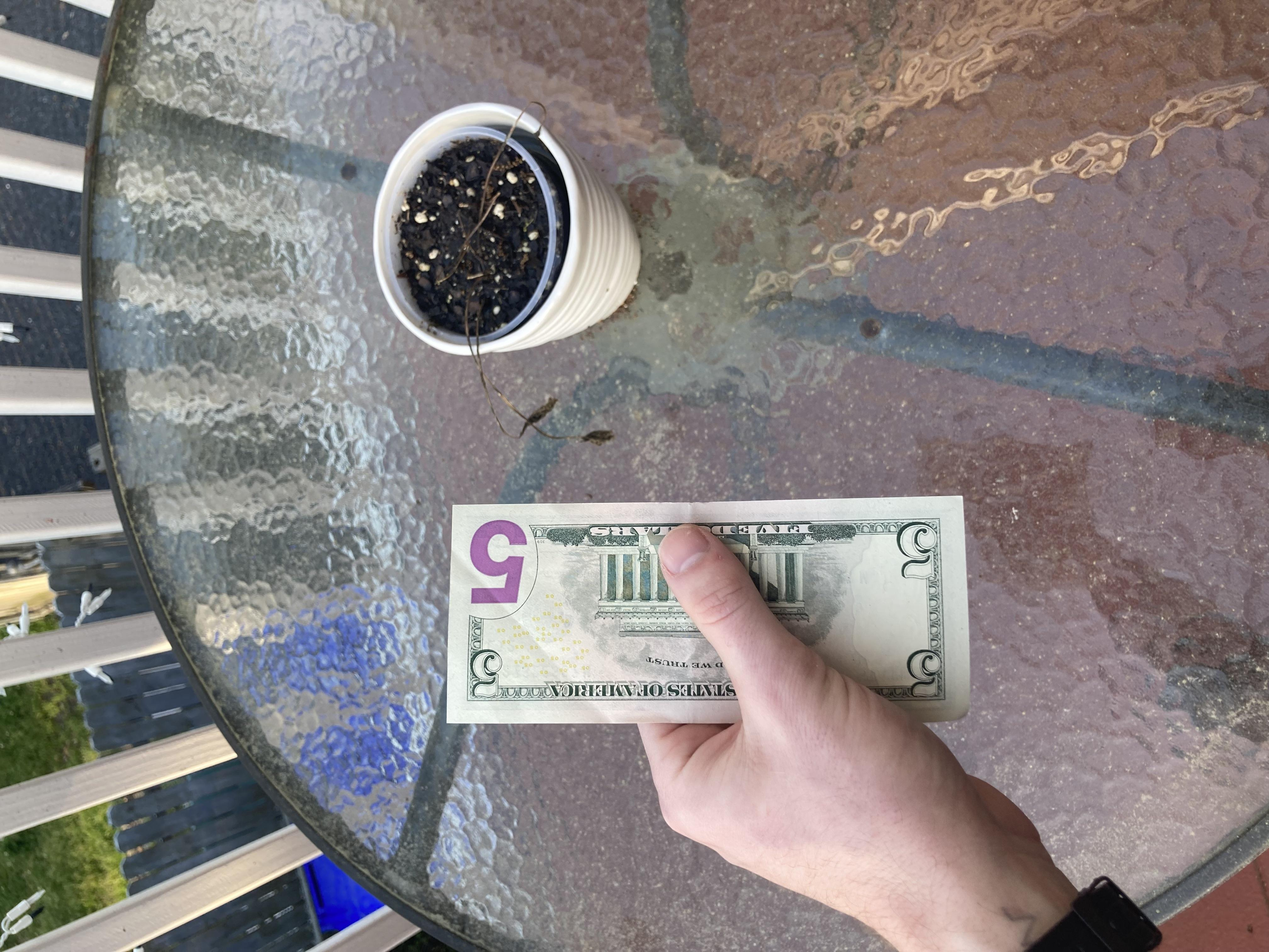five-back: (304, 337, 606, 724)
